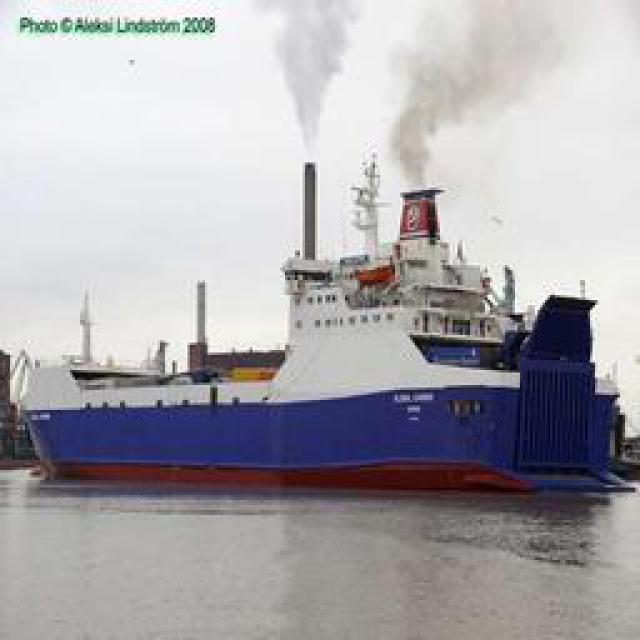Ship: (27, 159, 615, 492)
